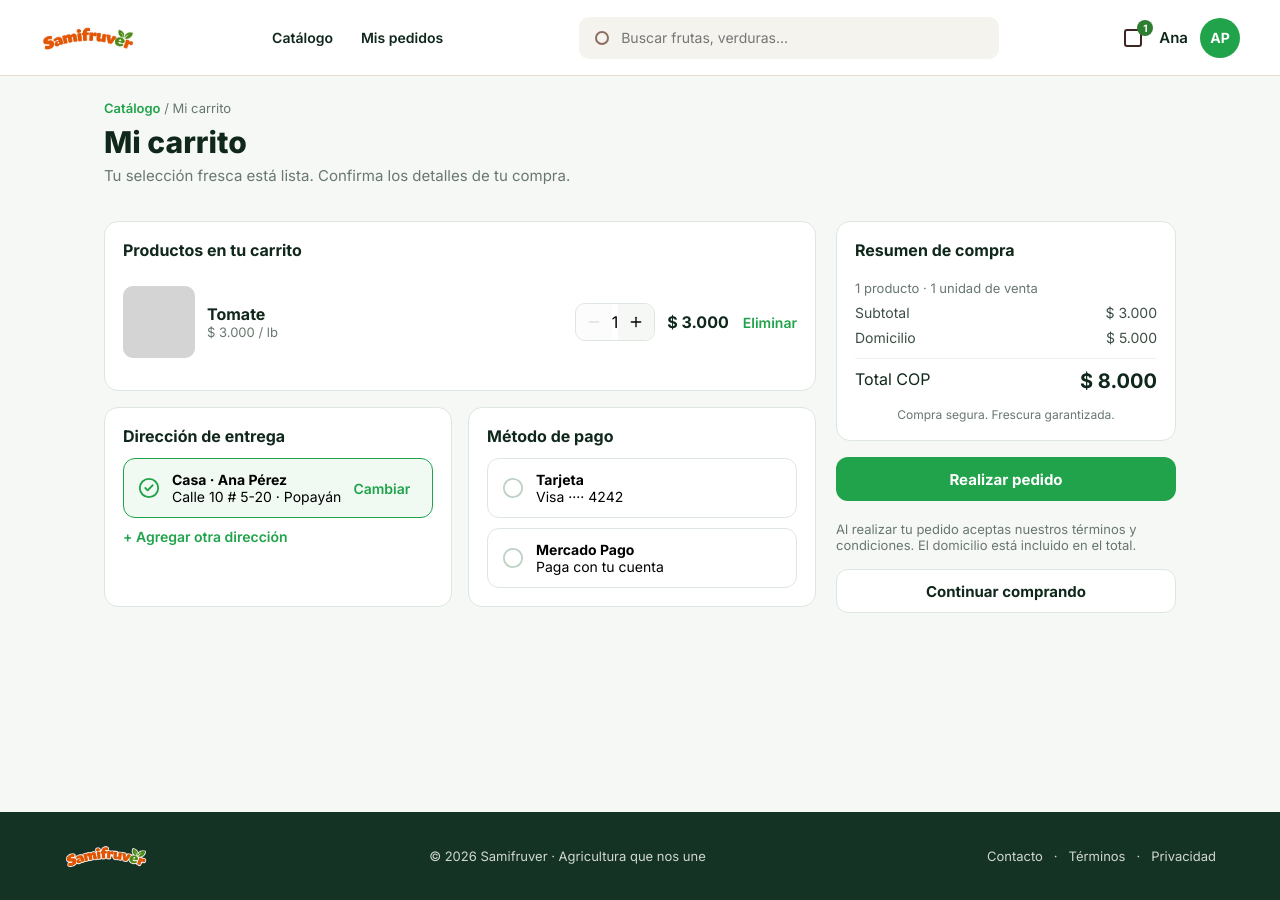
Test: E3-HU2 Carrito y creación de pedido › error 409 de stock se muestra y el carrito se conserva
This screenshot has width=1280, height=900.
Check: the text "Calle 10 # 5-20 · Popayán" is shown, box [172,488,341,505]
Click the radio button labelled "Mercado Pago Paga con tu cuenta" at (642, 558), box [487,528,797,588]
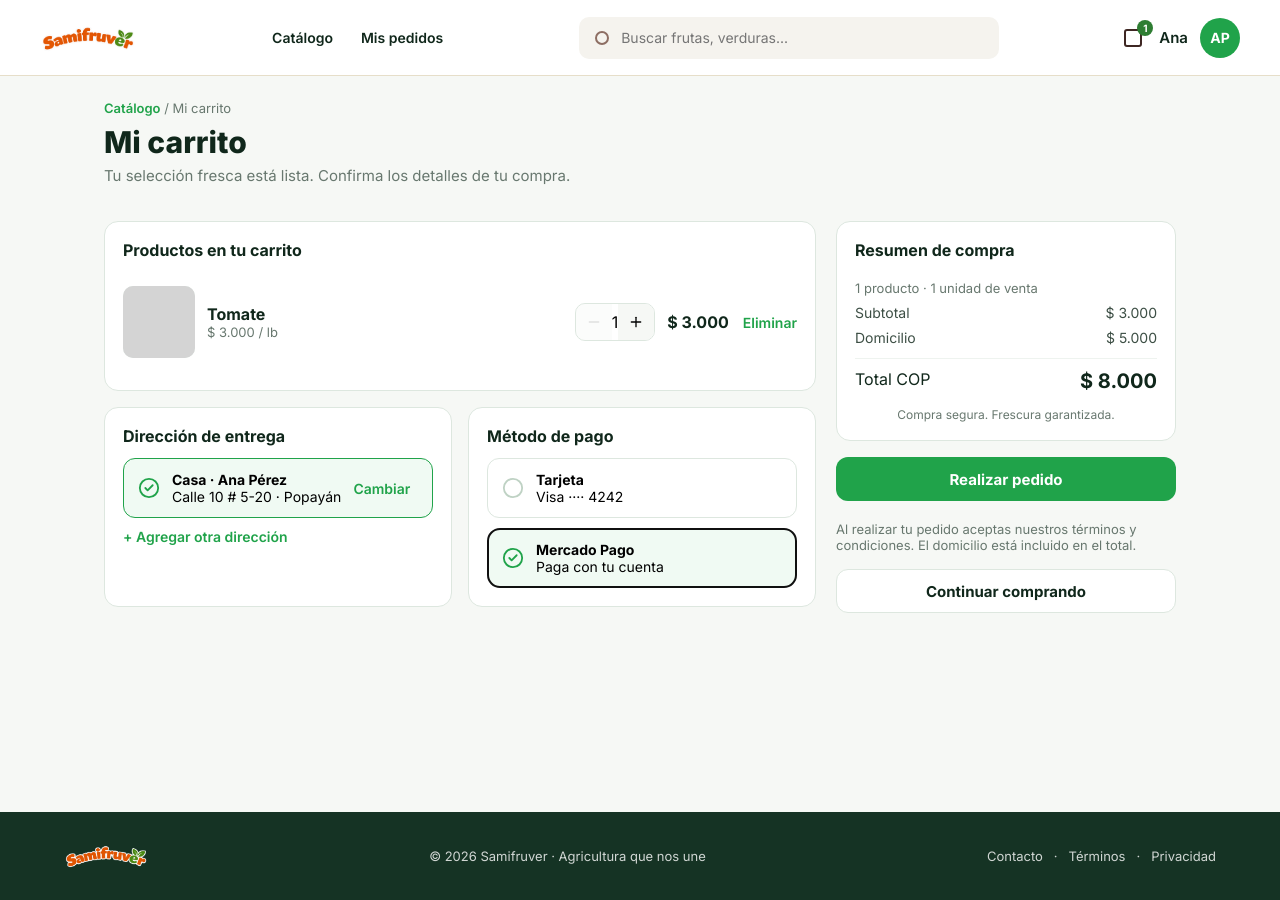
Click the button "Realizar pedido" at (1006, 479), box [836,457,1176,501]
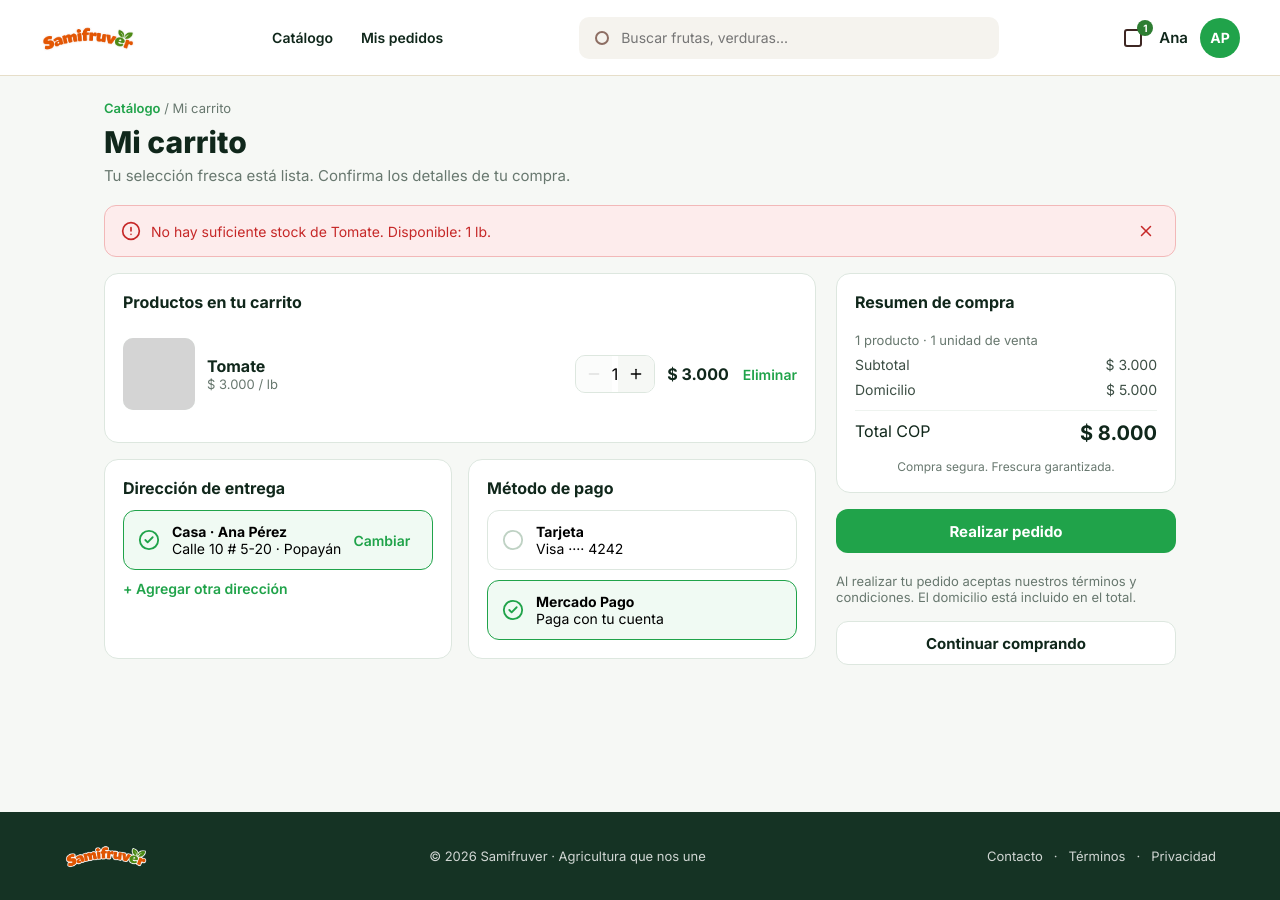
Check: the text "No hay suficiente stock de Tomate. Disponible: 1 lb." is shown, box [151,222,491,240]
